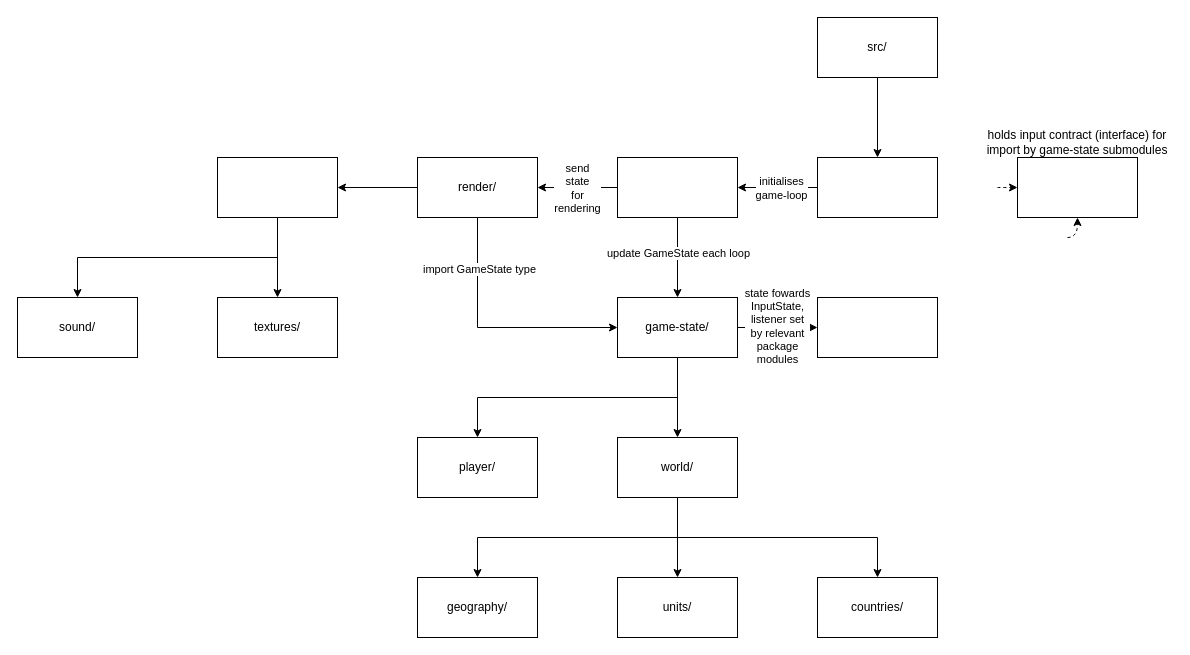
Some shapes in this 1190 by 655 pixel diagram are drawn without their labels. Each missing label, with the centre of its shape:
assets/: (x=277, y=187)
boot.ts: (x=877, y=187)
foundation/: (x=1077, y=187)
game-loop/: (x=677, y=187)
input/: (x=877, y=327)
